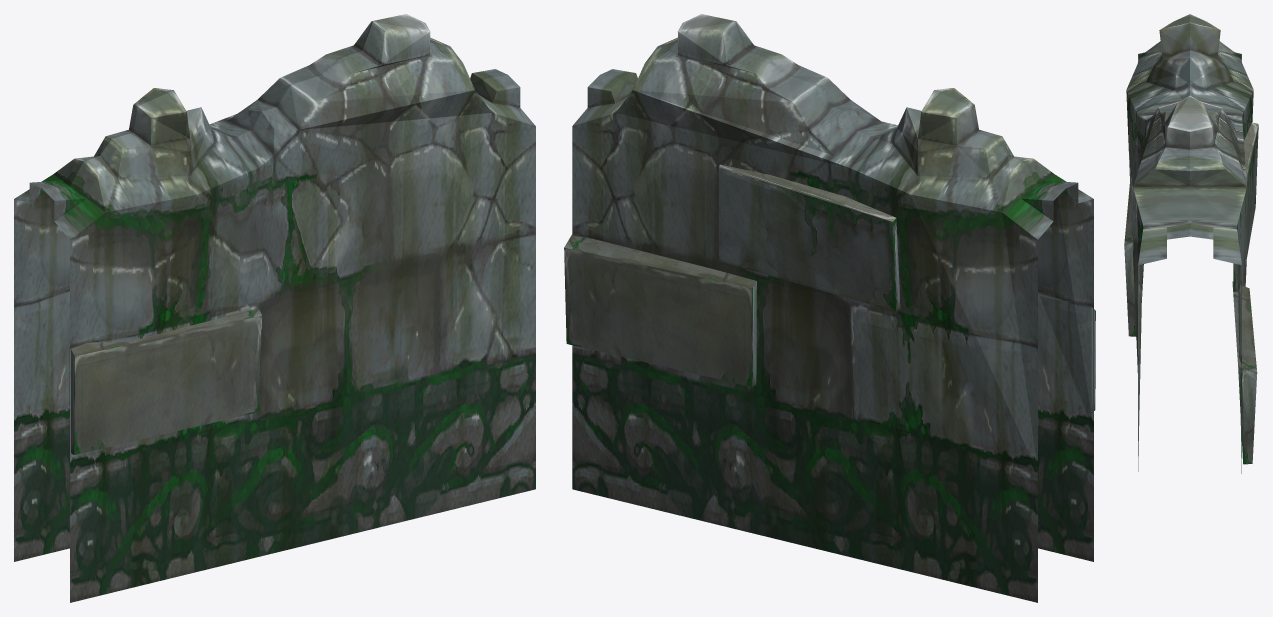
File: stemple_half_straight_03.fbx
3 renders of one model, left to right at view 1: azimuth 30°, elevation 25°; view 2: azimuth 150°, elevation 25°; view 3: azimuth 270°, elevation 25°, orthographic. The views are drawn at different scales.
Visible parts, largest first — view 1: obj1.011; view 2: obj1.011; view 3: obj1.011.
Part boxes in pixels (x1,y1,x2,y2): obj1.011: (14, 14, 535, 602); obj1.011: (564, 14, 1095, 602); obj1.011: (1124, 14, 1258, 473).
Bounding box in the file's own units: 4.01 × 3.94 × 1.07.
